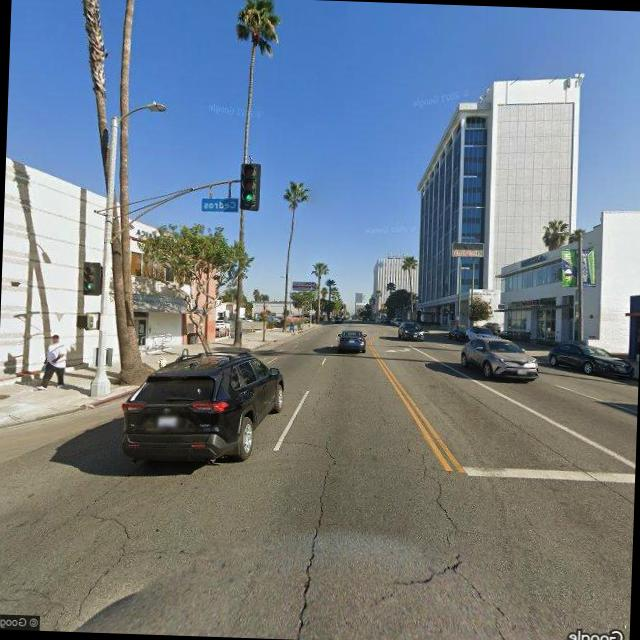pothole: (385, 436, 532, 640), (54, 497, 157, 633), (288, 438, 343, 638), (310, 360, 346, 418)
